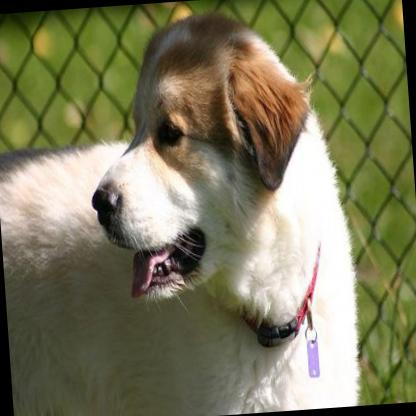Great_Pyrenees: (0, 4, 362, 416)
